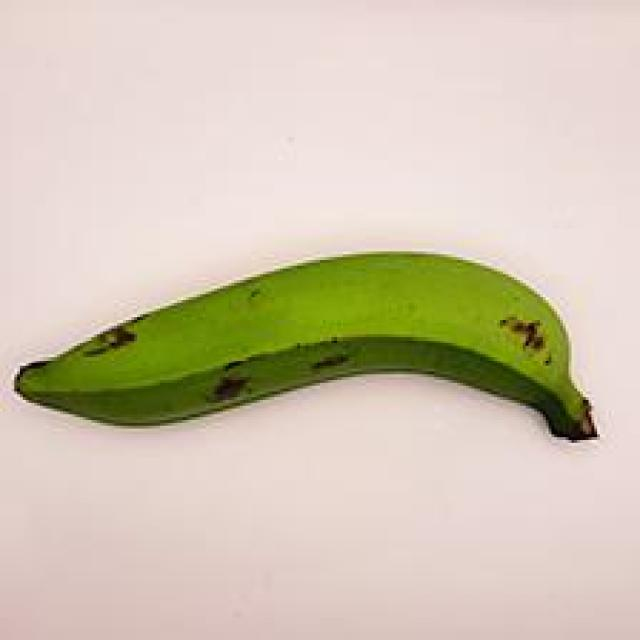Raw: (13, 203, 609, 483)
